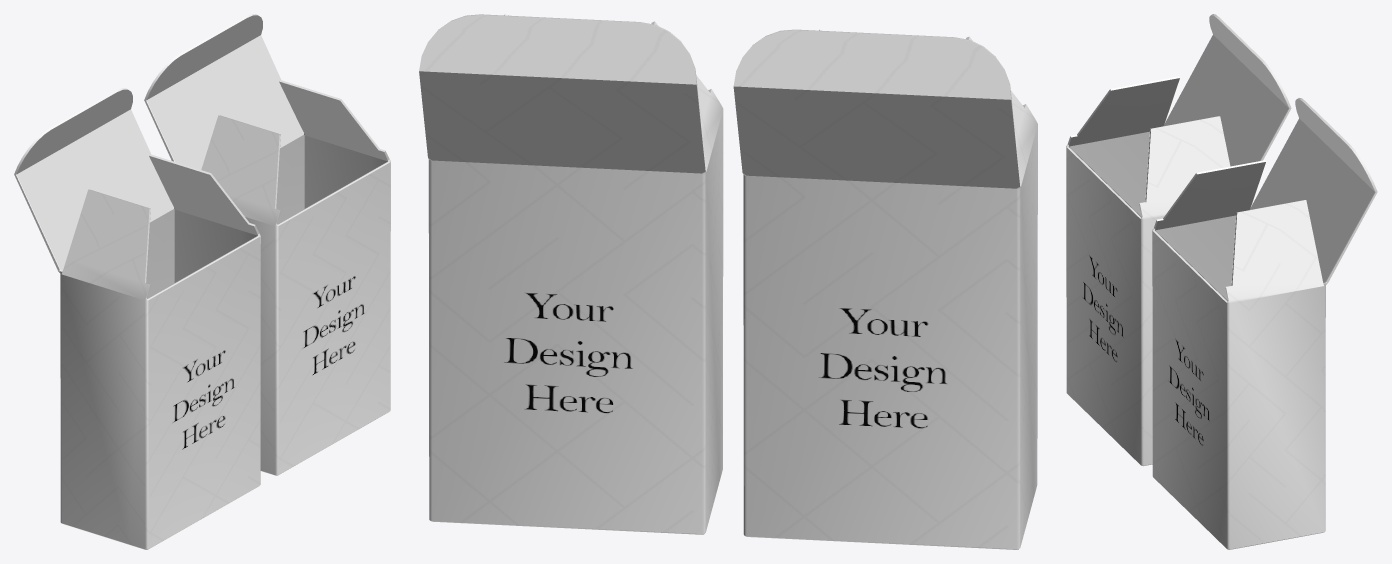
The model's file is Folding A-2.glb.
3 views of the same model, side by side, from view 1: azimuth 30°, elevation 25°; view 2: azimuth 150°, elevation 25°; view 3: azimuth 270°, elevation 25° (orthographic). The views are drawn at different scales.
Parts seen in each view (by area): view 1: Box4.002, Box4.003, Box4.005, Box4.007, Box4.004, Box4.006; view 2: Box4.002, Box4.003; view 3: Box4.003, Box4.002, Box4.007, Box4.005, Box4.006, Box4.004.
Part boxes in pixels (x1=…): Box4.002: x1=58, y1=189, x2=260, y2=549; Box4.003: x1=201, y1=115, x2=390, y2=475; Box4.005: x1=16, y1=89, x2=257, y2=298; Box4.007: x1=146, y1=15, x2=387, y2=224; Box4.004: x1=14, y1=88, x2=260, y2=299; Box4.006: x1=144, y1=14, x2=390, y2=225; Box4.002: x1=733, y1=30, x2=1037, y2=549; Box4.003: x1=419, y1=15, x2=723, y2=534; Box4.003: x1=1152, y1=200, x2=1327, y2=549; Box4.002: x1=1066, y1=116, x2=1230, y2=466; Box4.007: x1=1155, y1=99, x2=1374, y2=301; Box4.005: x1=1068, y1=15, x2=1288, y2=217; Box4.006: x1=1152, y1=98, x2=1377, y2=302; Box4.004: x1=1066, y1=14, x2=1291, y2=218.
Size of the model in its own units: 2.8 by 2.59 by 2.
Materials: 2 (1 with a texture image).
